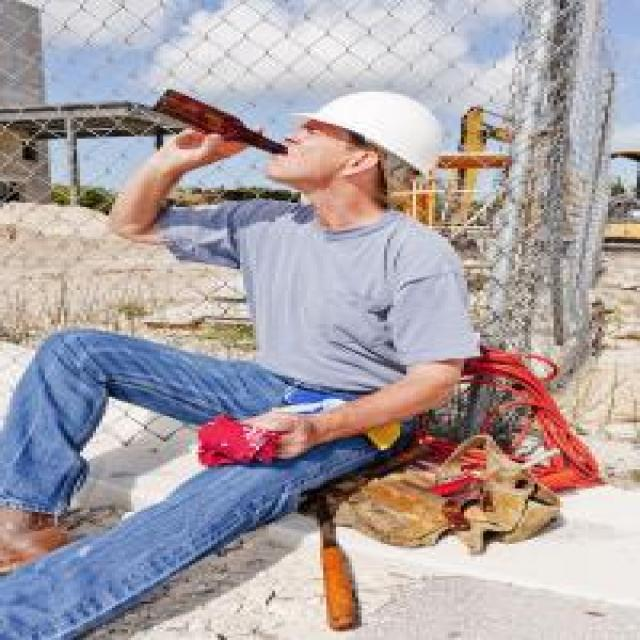helmet: (304, 93, 453, 162)
no-earmuff: (346, 148, 379, 178)
